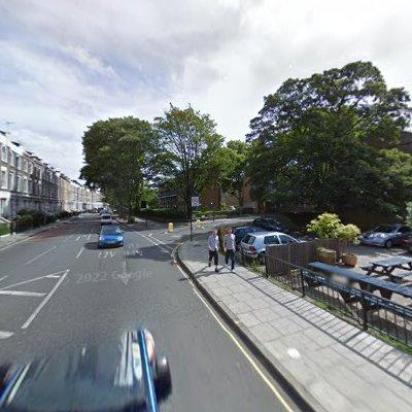moving-car: (0, 324, 174, 412), (95, 225, 125, 251), (100, 213, 114, 226)
stationary-car-offstreet: (240, 231, 306, 263), (360, 220, 412, 250), (230, 223, 268, 249), (253, 213, 299, 234)
